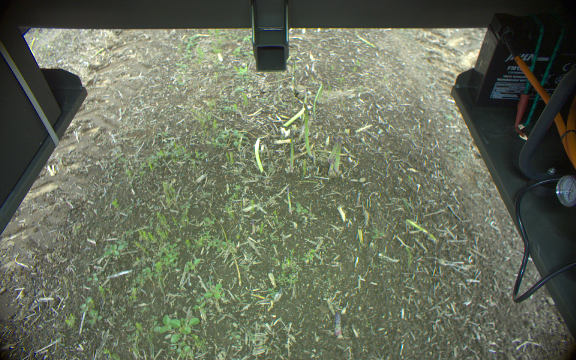aspa: (251, 135, 266, 174), (303, 104, 313, 159), (336, 134, 344, 177), (332, 313, 343, 343), (288, 133, 295, 173), (327, 133, 336, 161), (326, 155, 336, 177)
